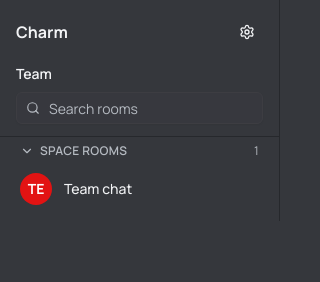
RoomList › surfaces an error instead of failing silently when Remove from space is rejected
This screenshot has width=320, height=282.
Right-click the text "Team chat".
right_click(98, 189)  # box [64, 179, 132, 199]
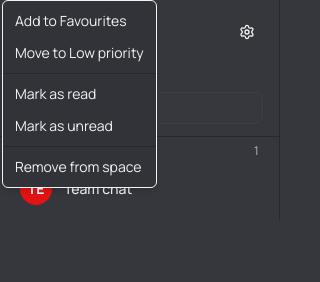
Click the menu item "Remove from space".
click(78, 166)  # box [15, 157, 141, 176]
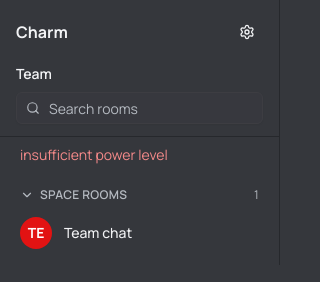
Now the message reads "insufficient power level", box [20, 145, 168, 164]
